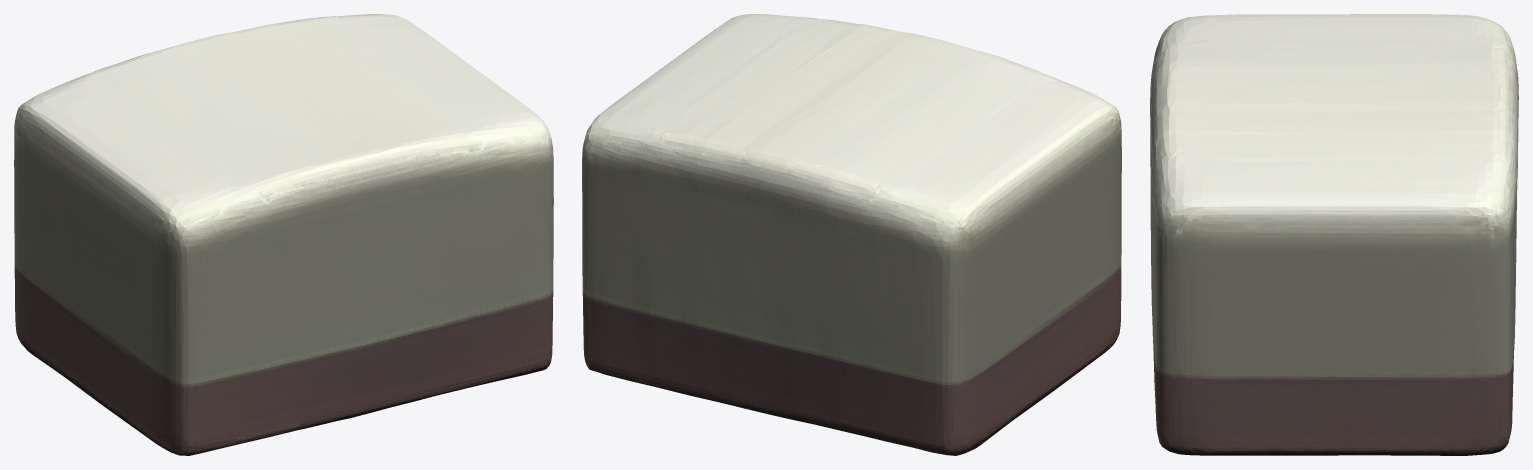
The model's file is 3d_tile.glb.
The picture shows the model from 3 angles, left to right: view 1: azimuth 30°, elevation 25°; view 2: azimuth 150°, elevation 25°; view 3: azimuth 270°, elevation 25°; orthographic projection. The views are drawn at different scales.
Visible parts, largest first — view 1: world; view 2: world; view 3: world.
Part boxes in pixels (box(x1,y1,x2,y2)): world: box(14, 14, 553, 455); world: box(582, 14, 1121, 455); world: box(1150, 14, 1518, 455).
Bounding box in the file's own units: 0.1997 × 0.1278 × 0.1598.
1 material, 1 textured.
